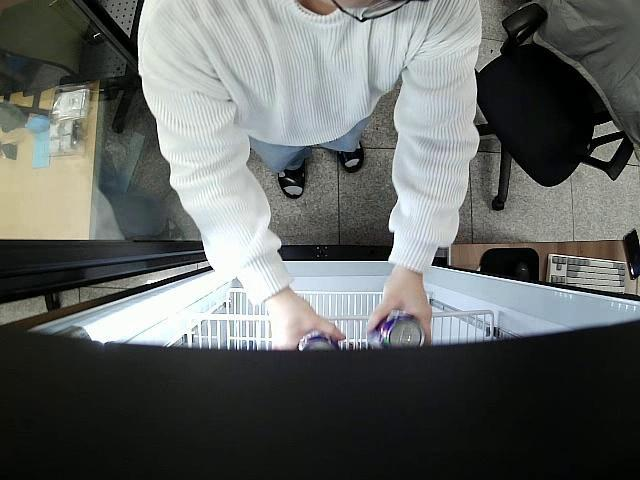14_welchsGrape: (371, 309, 424, 350), (298, 333, 342, 356)
